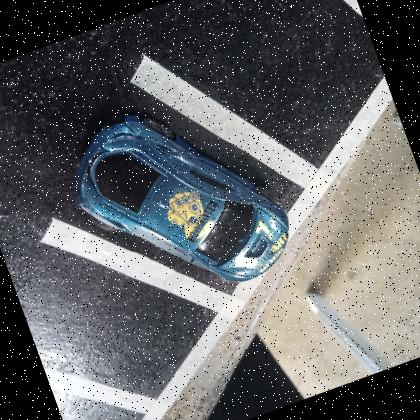Car: (75, 112, 289, 283)
